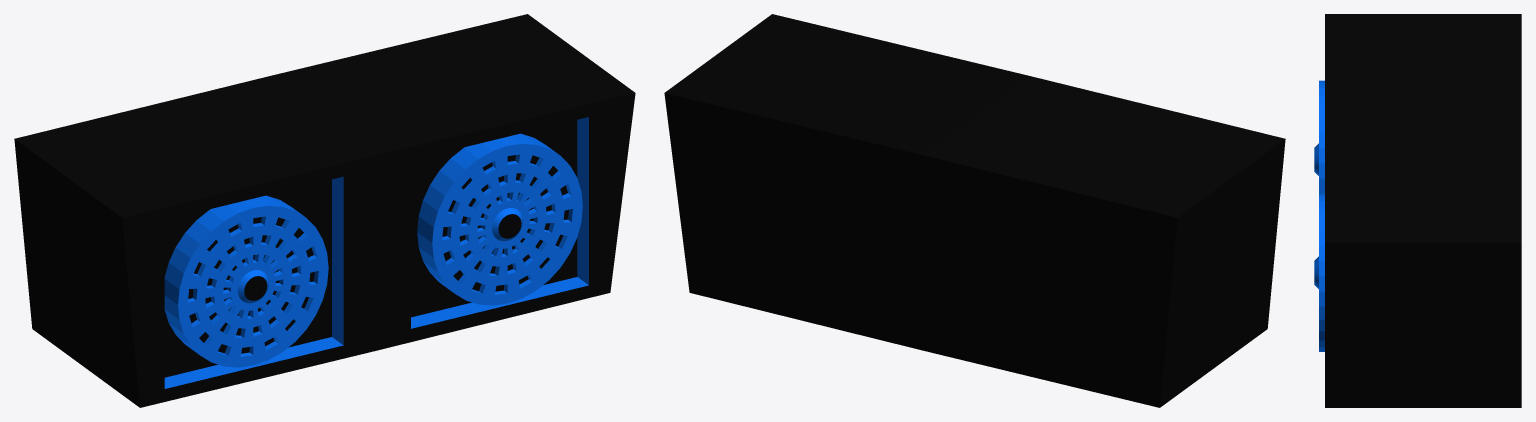
The model's file is parlante.fbx.
3 renders of one model, left to right at view 1: azimuth 30°, elevation 25°; view 2: azimuth 150°, elevation 25°; view 3: azimuth 270°, elevation 25°, orthographic. The views are drawn at different scales.
Parts seen in each view (by area): view 1: Cylinder.001; view 2: Cylinder.001; view 3: Cylinder.001.
Boxes of the visible parts, x1=… form: Cylinder.001: x1=14, y1=14, x2=635, y2=407; Cylinder.001: x1=664, y1=14, x2=1285, y2=407; Cylinder.001: x1=1314, y1=14, x2=1521, y2=407.
Size of the model in its own units: 5.5 by 2 by 2.11.
